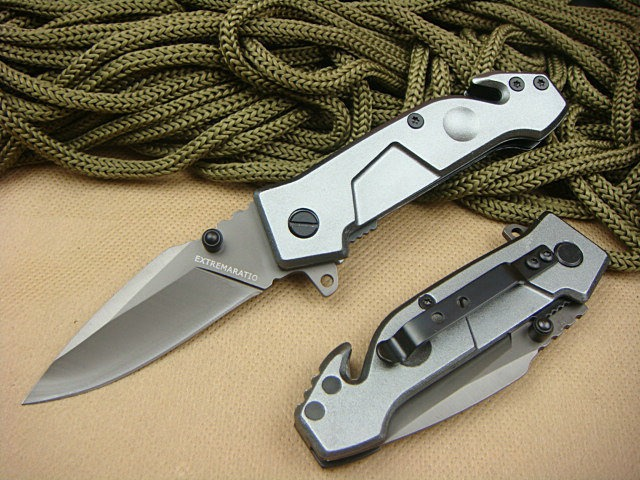knife: (14, 194, 291, 413)
